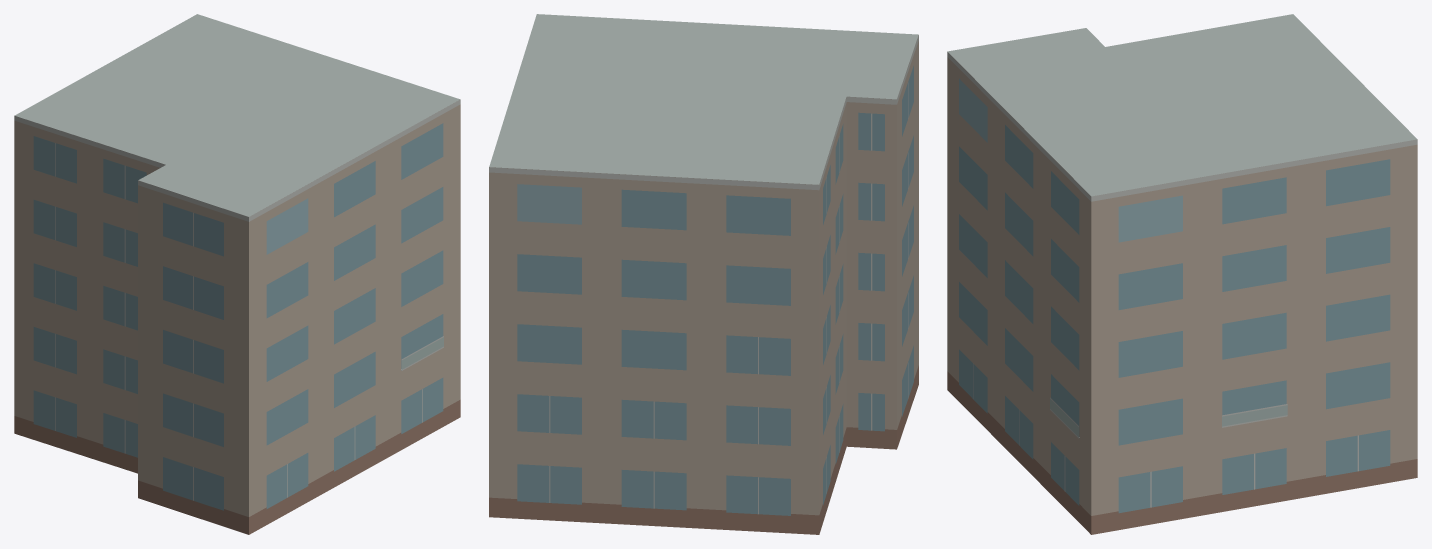
Rendered from survey-upis-33045207.glb.
3 views of the same model, side by side, from view 1: azimuth 30°, elevation 25°; view 2: azimuth 150°, elevation 25°; view 3: azimuth 270°, elevation 25° (orthographic). The views are drawn at different scales.
Parts seen in each view (by area): view 1: survey-upis-33045207.tmp; view 2: survey-upis-33045207.tmp; view 3: survey-upis-33045207.tmp.
Part boxes in pixels (x1,y1,x2,y2): survey-upis-33045207.tmp: (14, 14, 460, 534); survey-upis-33045207.tmp: (489, 14, 918, 534); survey-upis-33045207.tmp: (947, 14, 1417, 534).
Size of the model in its own units: 18.28 by 15.8 by 19.91.
